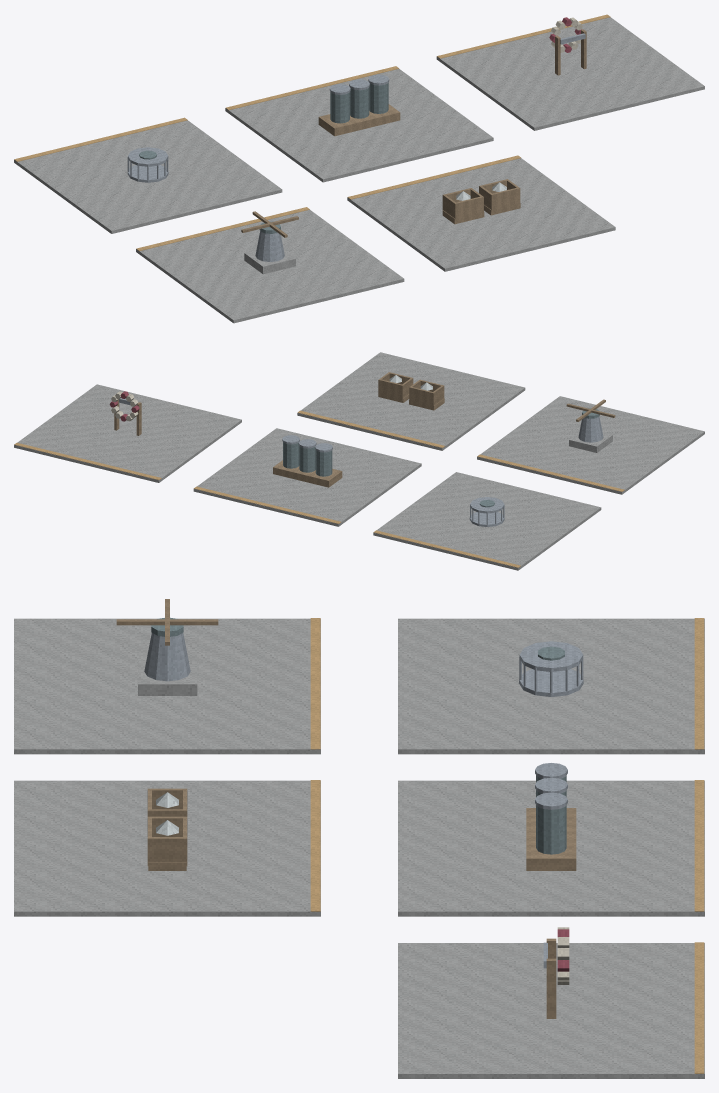
Rendered from level_blockout_kit_wld_06_p04.glb.
3 views of the same model, one above another, from view 1: azimuth 30°, elevation 25°; view 2: azimuth 150°, elevation 25°; view 3: azimuth 270°, elevation 25° (orthographic). The views are drawn at different scales.
Parts seen in each view (by area): view 1: level_blockout_kit_wld_06_p04; view 2: level_blockout_kit_wld_06_p04; view 3: level_blockout_kit_wld_06_p04.
Part boxes in pixels (bbox=[...]): level_blockout_kit_wld_06_p04: bbox=[14, 14, 704, 323]; level_blockout_kit_wld_06_p04: bbox=[14, 352, 704, 570]; level_blockout_kit_wld_06_p04: bbox=[14, 599, 704, 1078].
Bounding box in the file's own units: 19.65 × 1.67 × 12.6.
Materials: 8 (8 with a texture image).
